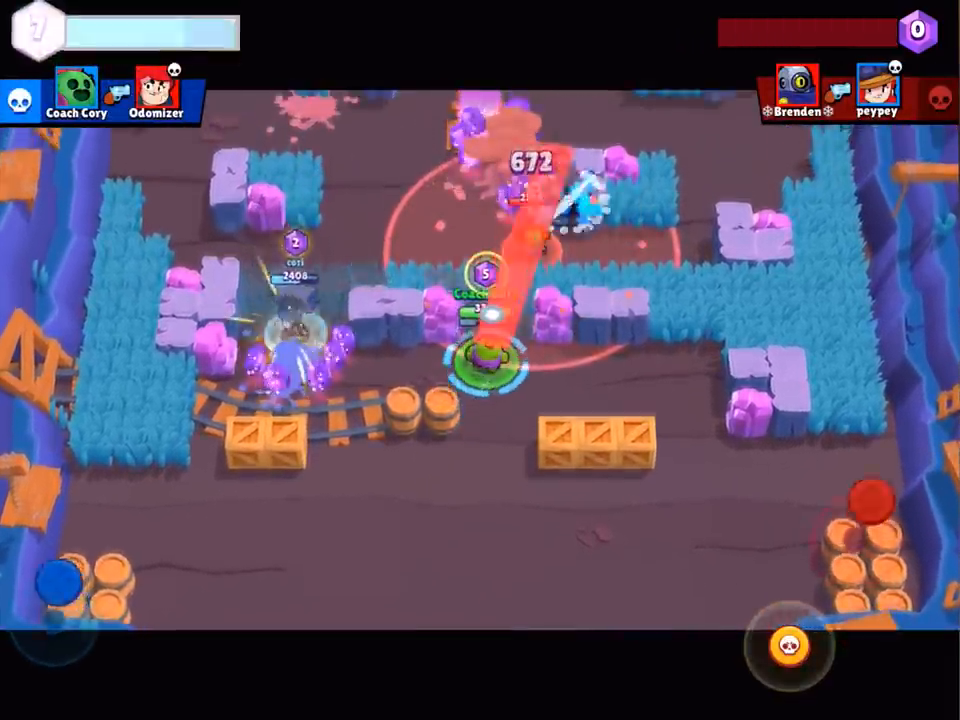move_stick: (39, 558, 83, 601)
red: (508, 186, 563, 267)
